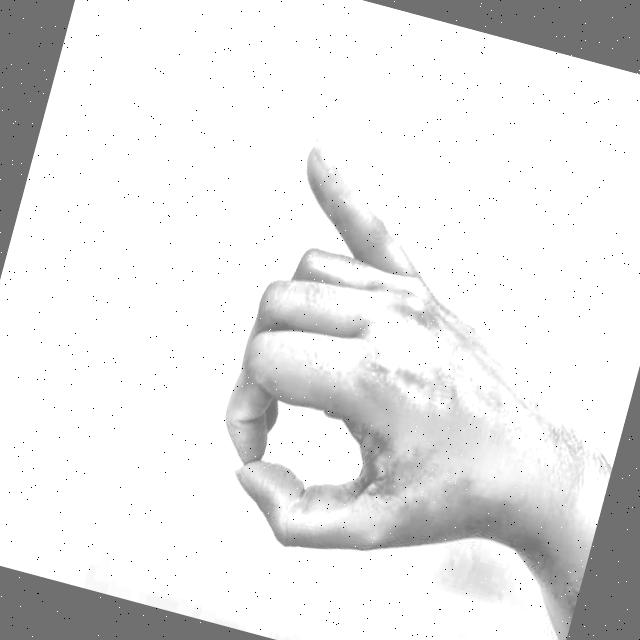Ou: (166, 110, 596, 626)
